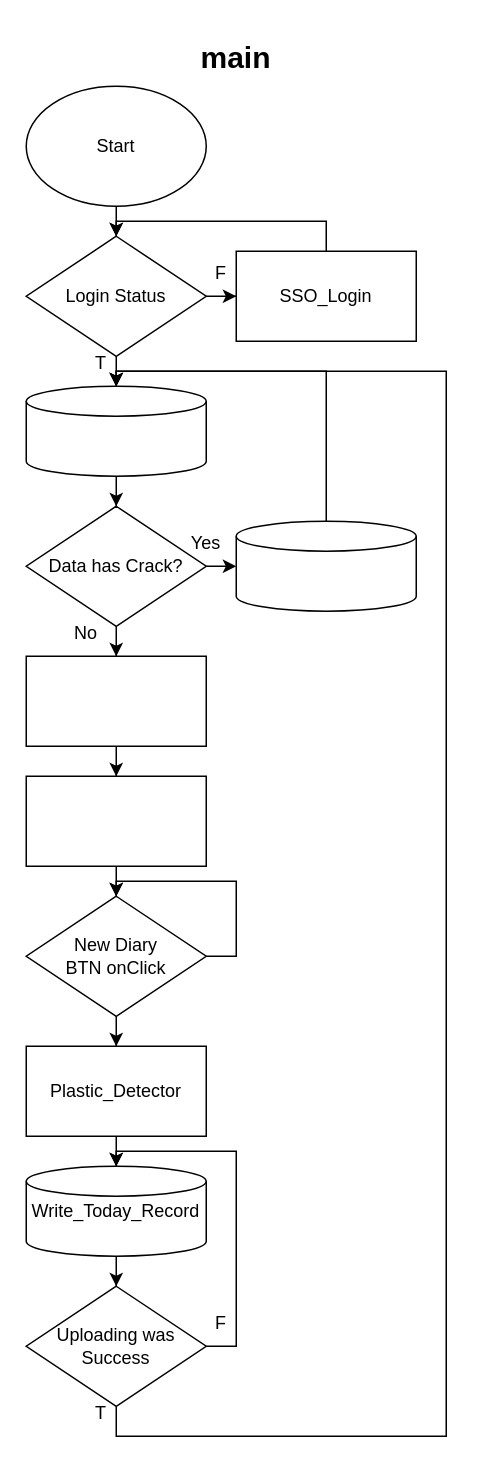
The diagram is 485 pixels wide and 1475 high, and some of its shapes have lost their labels. Each missing label, with the box of its shape:
Analyze_USER_Data: (25, 655, 206, 746)
Load_USER_Data: (25, 385, 206, 476)
USER_Data_init: (235, 520, 416, 611)
Visualize_USER_Data: (25, 775, 206, 866)
